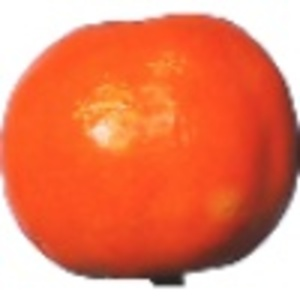tangerina: (2, 11, 300, 285)
